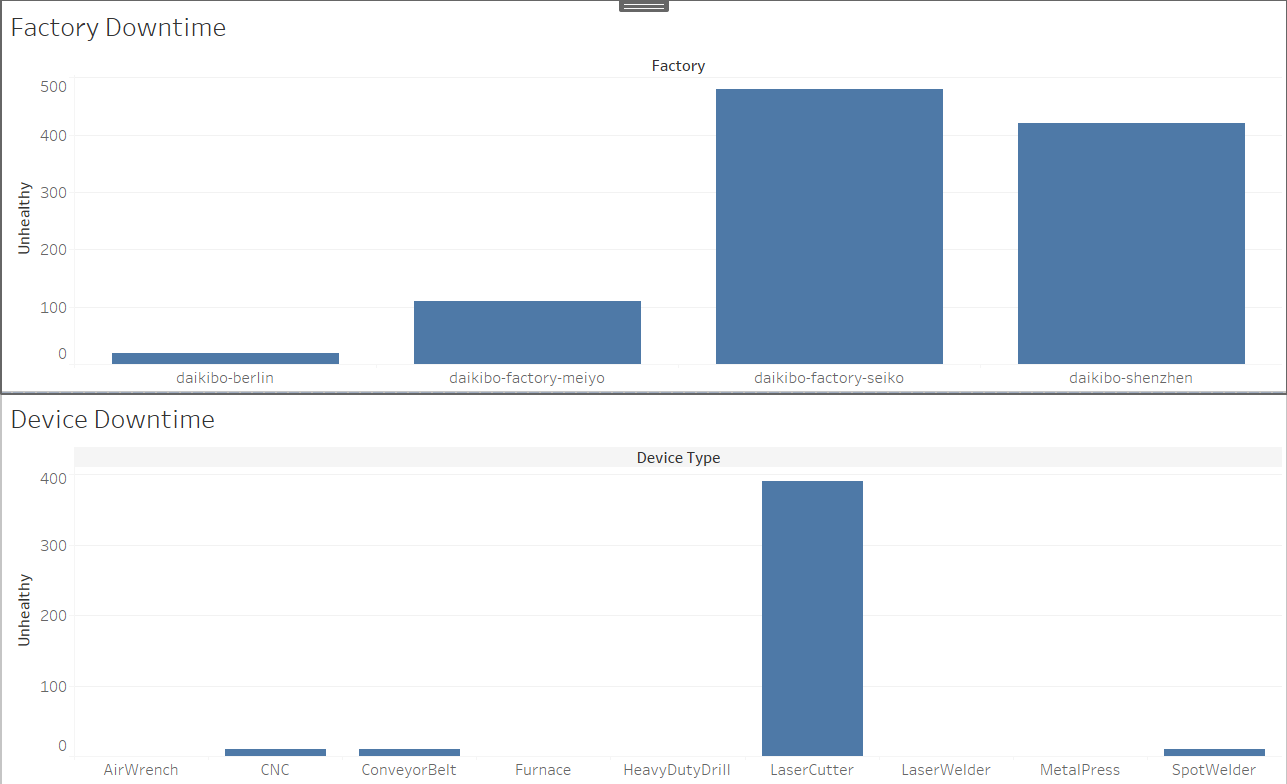

What the dashboard file says about the page in this screenshot:
{"tool":"tableau","page":{"name":"Dashboard ","canvas":[1300,800],"ordinal":0},"visuals":[{"type":"worksheet","title":"Factory Downtime","mark":"Automatic","rows":["Calculation_688769325349605376"],"cols":["factory"],"box":[8,8,1284,392]},{"type":"worksheet","title":"Device Downtime","mark":"Automatic","rows":["Calculation_688769325349605376"],"cols":["deviceType"],"box":[8,400,1284,392]}]}

Visuals, with their boxes in screenshot pixels (x1, y1, x2, y2), scaled from the page's 1300x800 canvas onto the 1287x784 screenshot:
"Factory Downtime" worksheet: box=[8, 8, 1279, 392]
"Device Downtime" worksheet: box=[8, 392, 1279, 776]
